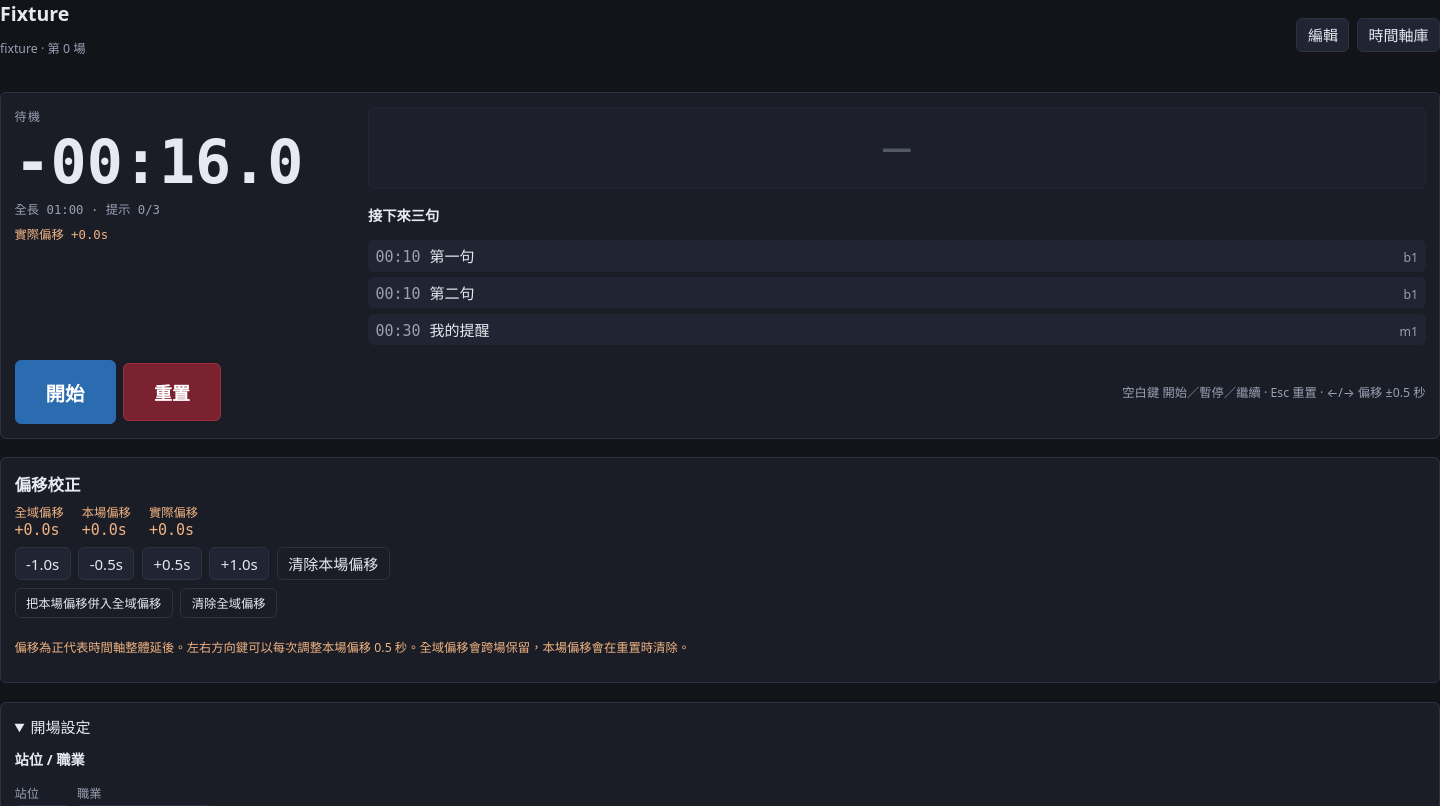
Scenario: B9/B10. 三個開始入口的規則一致 › 碰撞待確認：文字、時間差、來源與兩個動作都在畫面上
What coordinates should you click on to do the following:
click the button "開始"
I would click on:
 (65, 392)
Its box is top-left (14, 360), bottom-right (116, 424).
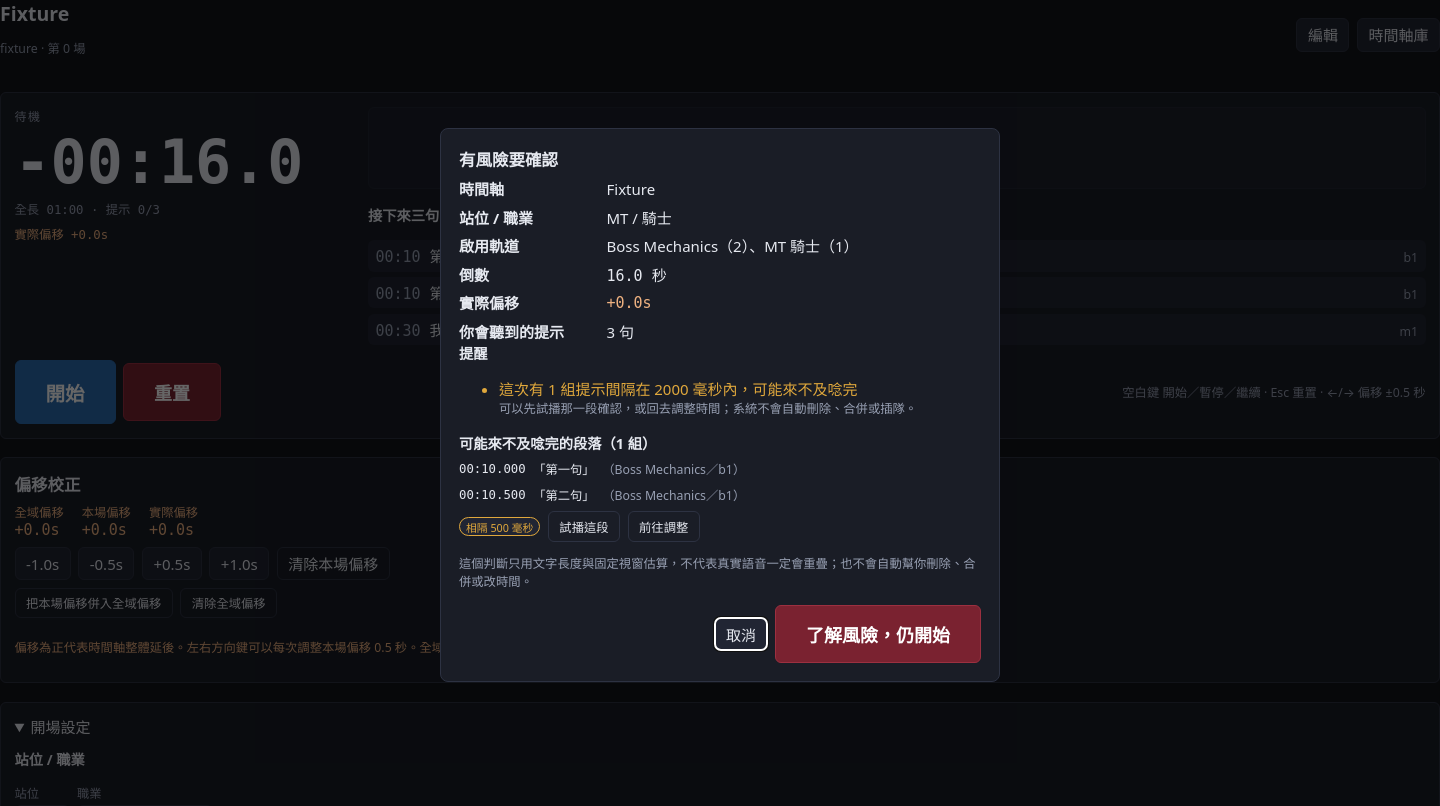
Check: the heading "有風險要確認" is shown, box top-left (459, 148), bottom-right (558, 171)
Check: the text "「第一句」" is shown, box top-left (533, 460), bottom-right (595, 478)
Check: the text "「第二句」" is shown, box top-left (533, 486), bottom-right (595, 504)
What coordinates should you click on to do the following:
click the button "了解風險，仍開始"
I would click on:
 (878, 634)
Its box is top-left (775, 605), bottom-right (981, 663).
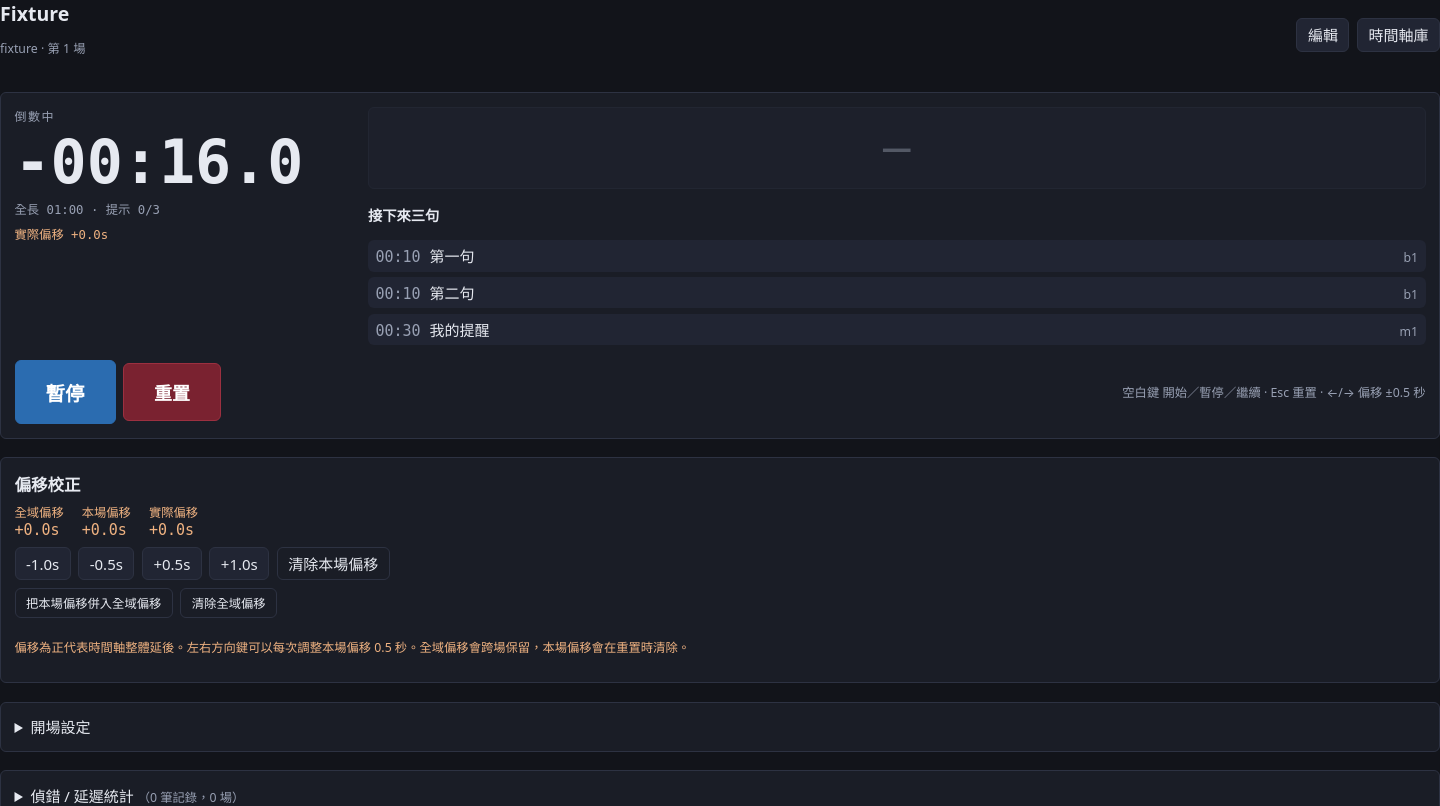
Check: the text "倒數中" is shown, box top-left (14, 108), bottom-right (55, 125)
